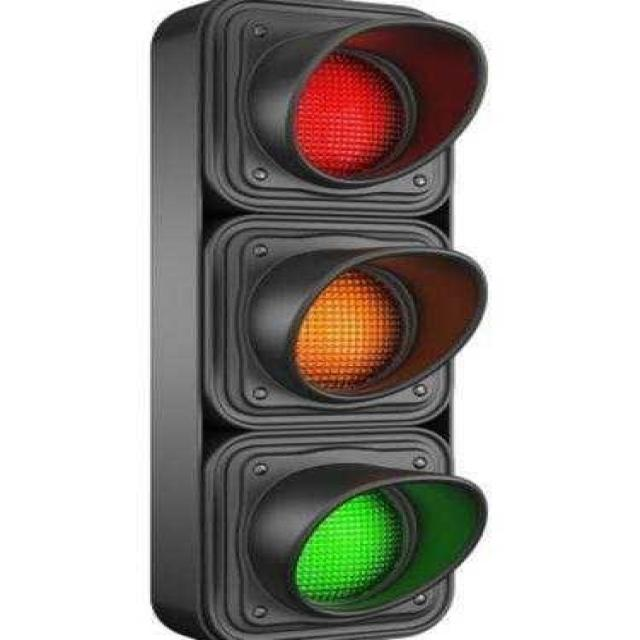Traffic Light -Off-: (123, 1, 493, 640)
